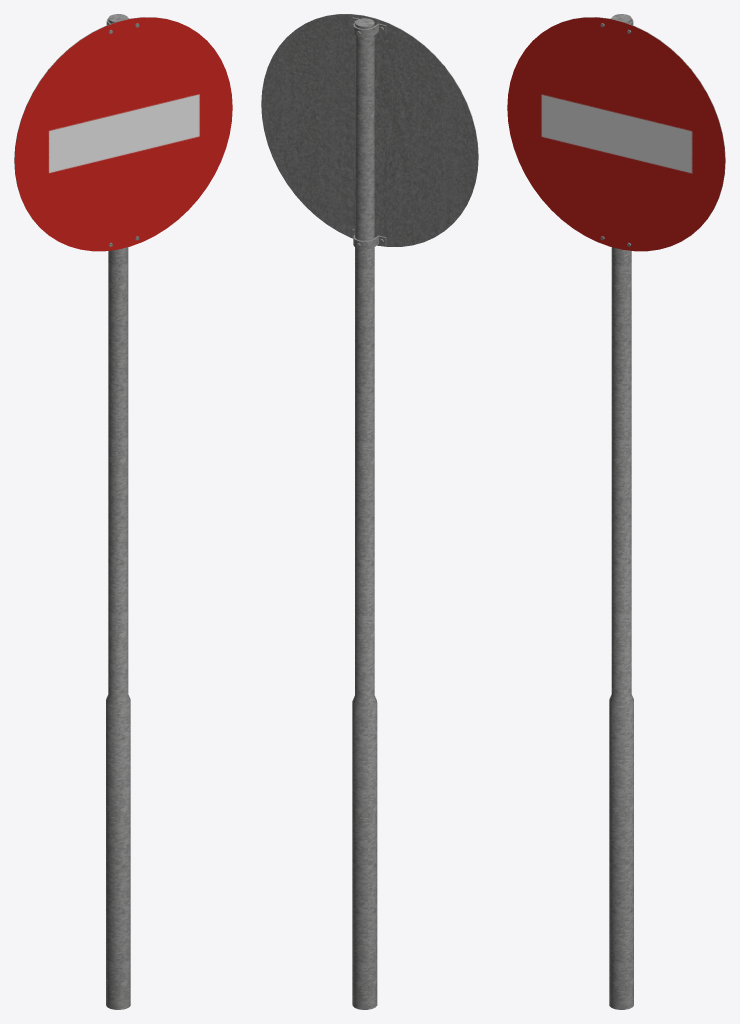
The model's file is noentry.obj.
3 renders of one model, left to right at view 1: azimuth 30°, elevation 25°; view 2: azimuth 150°, elevation 25°; view 3: azimuth 330°, elevation 25°, orthographic.
Parts seen in each view (by area): view 1: traffic_signs-01.002; view 2: traffic_signs-01.002; view 3: traffic_signs-01.002.
Boxes of the visible parts, x1,y1,x2,y2 form: traffic_signs-01.002: (14,14,232,1009); traffic_signs-01.002: (261,14,478,1009); traffic_signs-01.002: (507,14,725,1009).
Bounding box in the file's own units: 1.2 × 5.2 × 0.1237.
2 materials, 2 textured.
